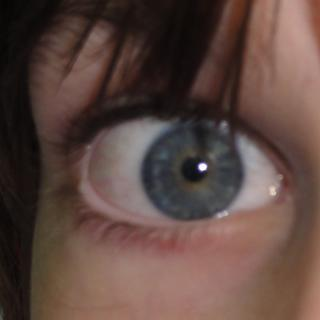pupil: (182, 156, 209, 183)
